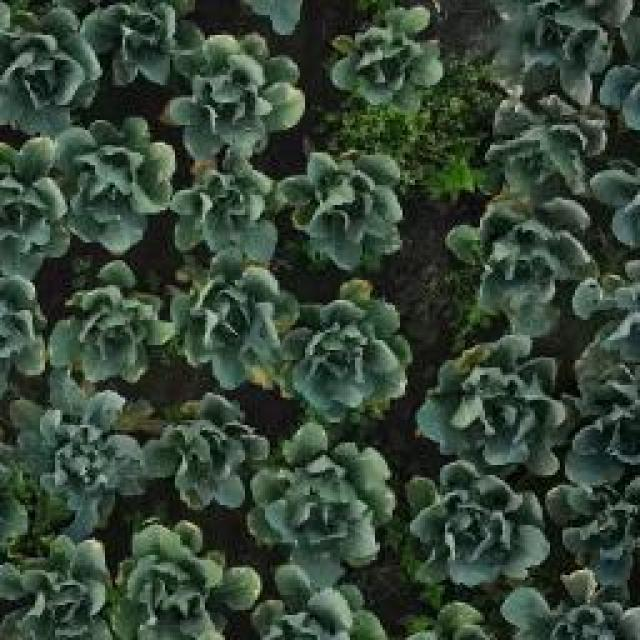cabbage: (5, 376, 151, 535), (247, 425, 396, 575), (400, 457, 553, 591), (451, 199, 591, 333), (421, 336, 566, 464), (280, 280, 412, 420), (54, 110, 178, 256), (164, 258, 299, 392), (115, 518, 262, 640), (275, 146, 409, 273), (165, 34, 306, 154), (476, 0, 640, 101), (144, 390, 270, 520), (45, 259, 173, 386), (479, 88, 620, 202), (322, 0, 452, 118), (0, 0, 104, 133), (73, 0, 204, 101), (0, 534, 115, 640), (0, 134, 74, 278), (185, 170, 276, 250)
